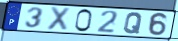0: (74, 8, 94, 33)
2: (96, 10, 120, 33)
3: (24, 6, 45, 29)
6: (147, 12, 169, 37)
Q: (123, 11, 145, 34)
X: (45, 6, 73, 32)
